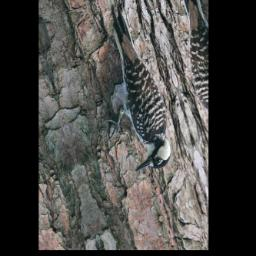Woodpecker: (73, 0, 183, 190)
